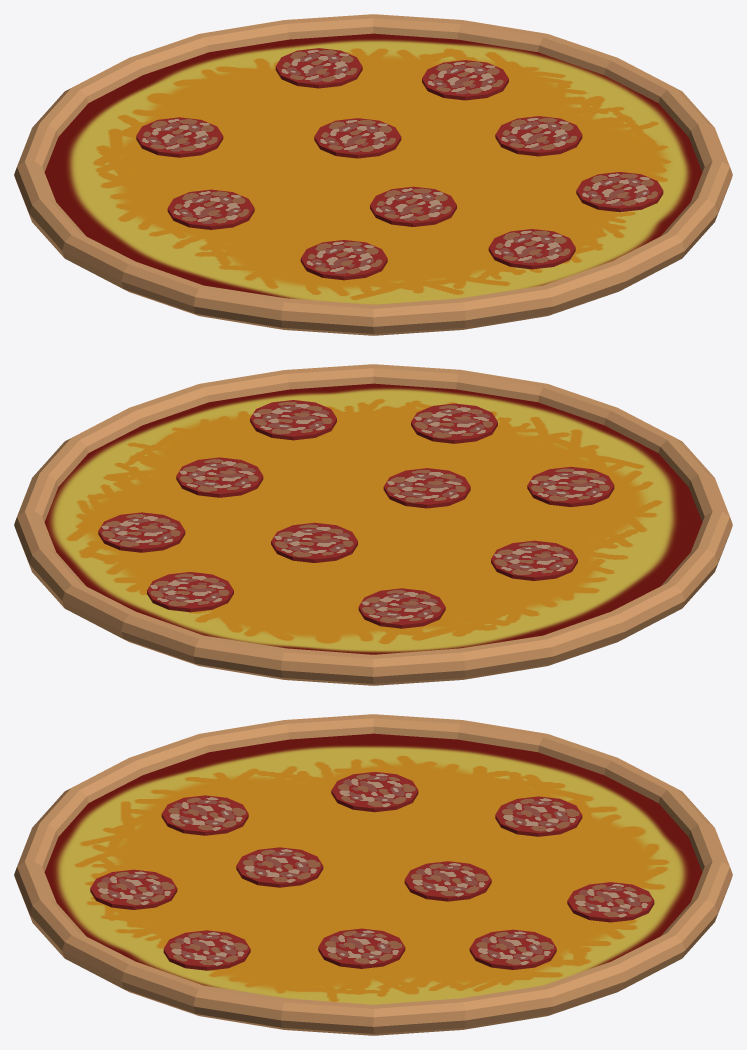
Rendered from Pizza.fbx.
3 renders of one model, top to bottom at view 1: azimuth 30°, elevation 25°; view 2: azimuth 150°, elevation 25°; view 3: azimuth 270°, elevation 25°, orthographic.
Parts seen in each view (by area): view 1: Pizza; view 2: Pizza; view 3: Pizza.
Part boxes in pixels (left/top/right/bottom): Pizza: left=14, top=14, right=732, bottom=335; Pizza: left=14, top=364, right=732, bottom=685; Pizza: left=14, top=714, right=732, bottom=1035.
Size of the model in its own units: 276 by 11.71 by 276.
1 material, 1 textured.
